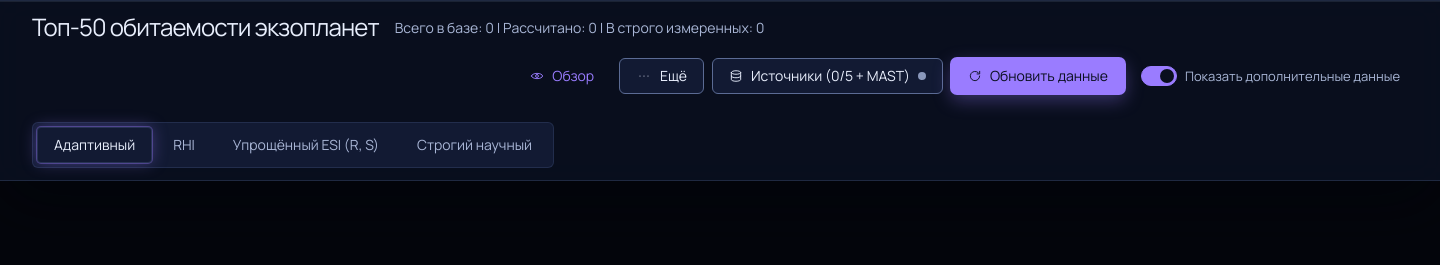
Test case: действия шапки › после registerAction пункт меню доступен и вызывает функцию
Later steps or results of the test are not shown.
Click the button "Ещё" at (662, 76), box [619, 58, 704, 94]
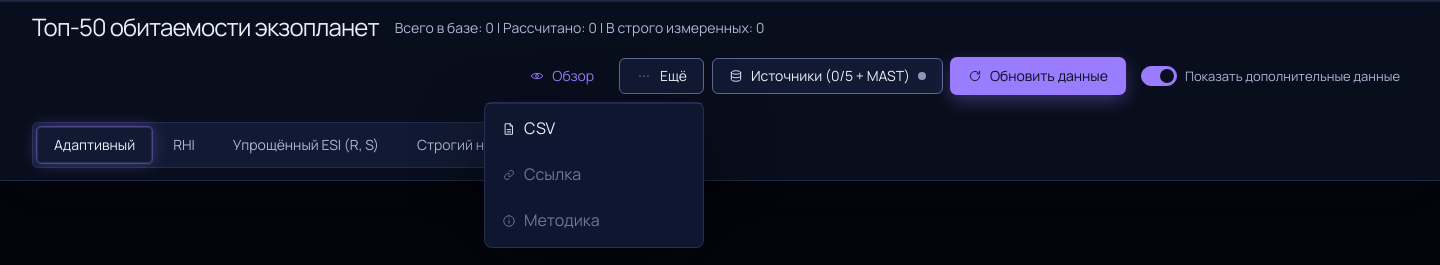
Expected: the menu item "CSV" is enabled, [489, 107, 699, 151]
